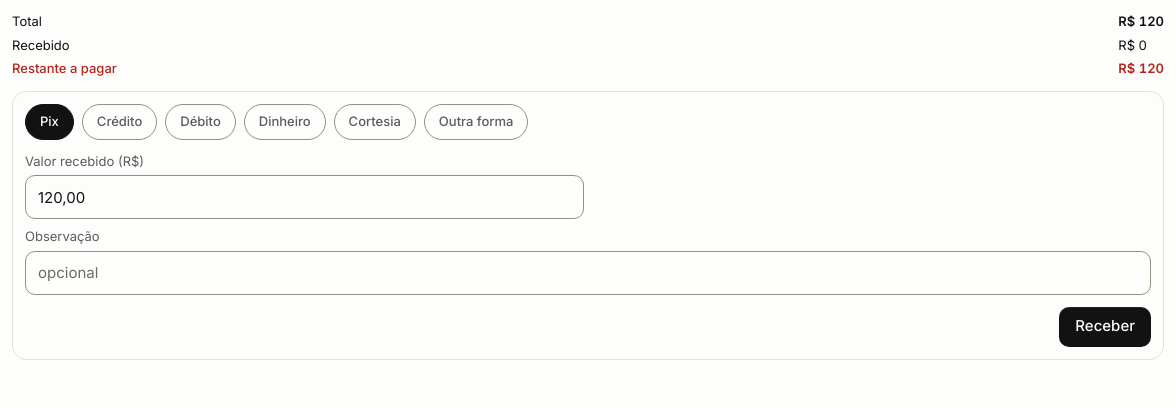
Test: Receber cinza diz o que falta (QA r58, I-7): o motivo da cortesia e o valor aparecem, ligados ao botão
Click the radio button labelled "Cortesia" at {"x": 375, "y": 122}, box [334,104,416,140]
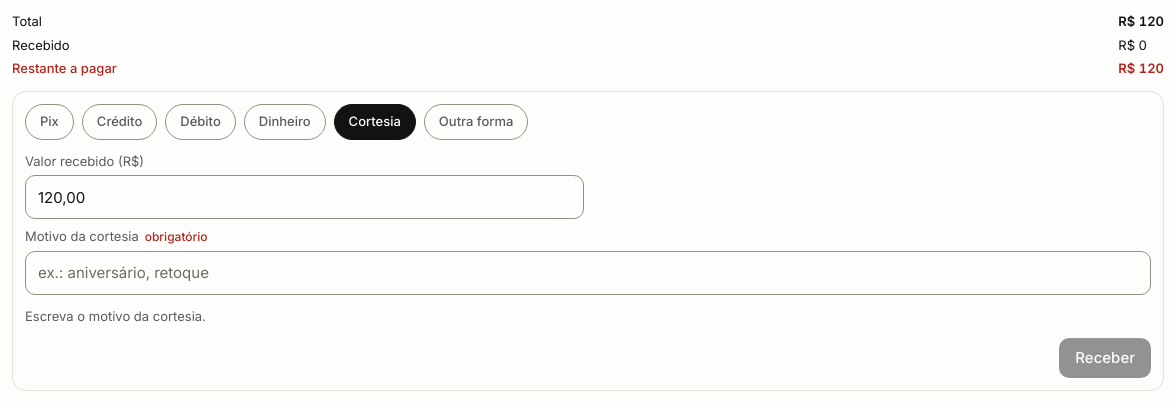
Check: the button "Receber" is disabled, box [1059,338,1151,378]
Check: the text "Escreva o motivo da cortesia." is shown, box [25,308,206,324]
Type "aniversário" into the field labelled "Motivo da cortesia" at {"x": 588, "y": 272}, box [25,250,1151,294]
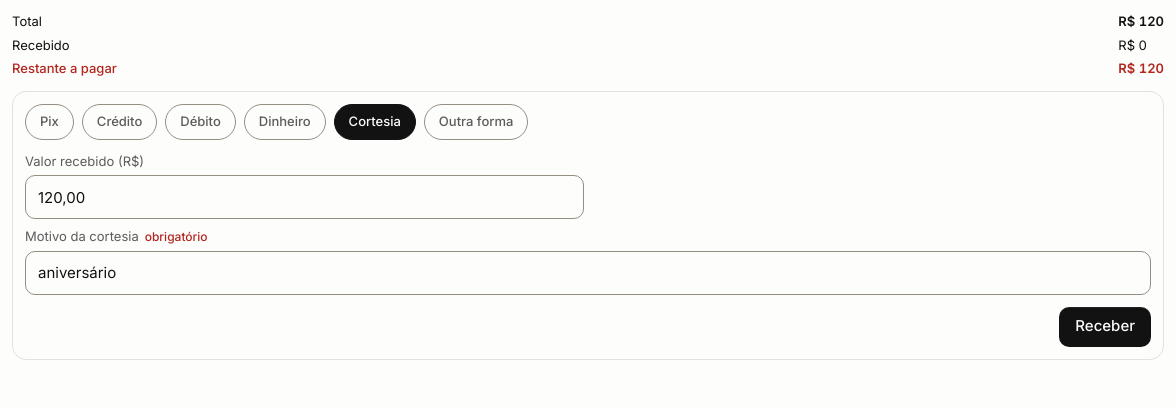
Clear the field labelled "Valor recebido (R$)" at {"x": 304, "y": 197}, box [25,175,584,219]
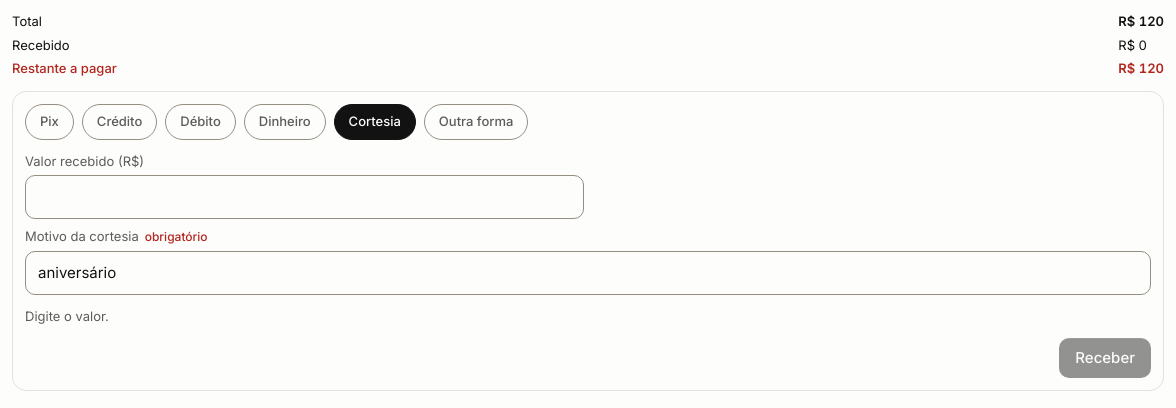
Check: the text "Digite o valor." is shown, box [25,308,109,324]
Type "120" into the field labelled "Valor recebido (R$)" at {"x": 304, "y": 197}, box [25,175,584,219]
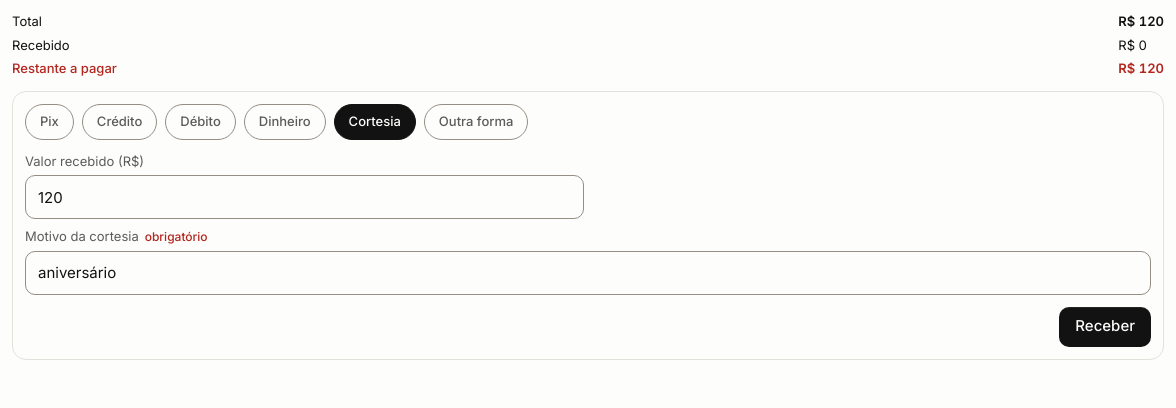
Check: the button "Receber" is enabled, box [1059,306,1151,346]
